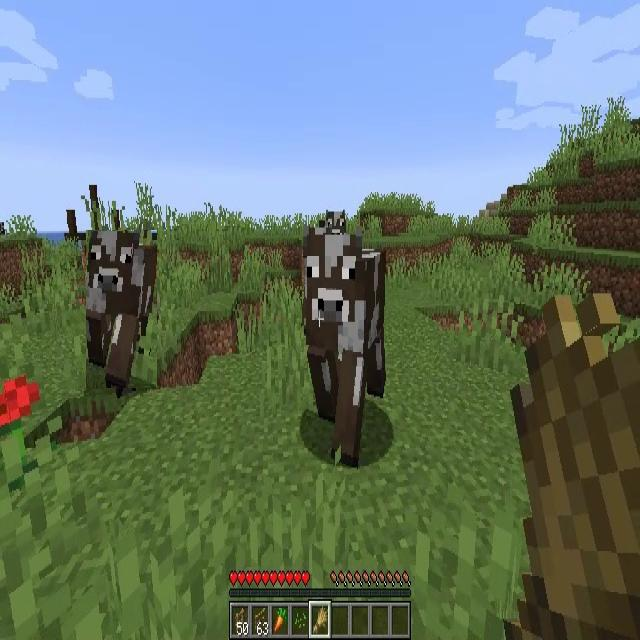cow: (305, 230, 386, 458), (86, 230, 157, 388)
